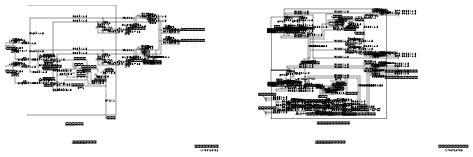corridor: (133, 101, 173, 106), (406, 37, 434, 43), (439, 80, 458, 85)
door: (82, 89, 87, 94), (393, 143, 396, 147), (108, 76, 110, 77), (326, 71, 327, 72), (412, 135, 412, 135), (324, 132, 324, 132), (341, 132, 342, 132), (385, 61, 385, 61), (347, 71, 347, 75)
room: (133, 106, 188, 138), (430, 100, 458, 145), (111, 125, 133, 138), (111, 89, 133, 101), (181, 101, 188, 116), (404, 32, 413, 40), (320, 36, 325, 49), (349, 32, 355, 39), (375, 32, 382, 38), (173, 101, 181, 106), (82, 86, 87, 91), (393, 142, 396, 145), (397, 67, 399, 69)
wall: (404, 32, 407, 46), (349, 32, 352, 45), (375, 32, 378, 45)
